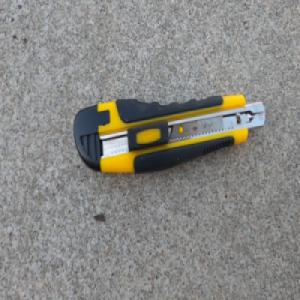Cutter: (70, 92, 264, 175)
